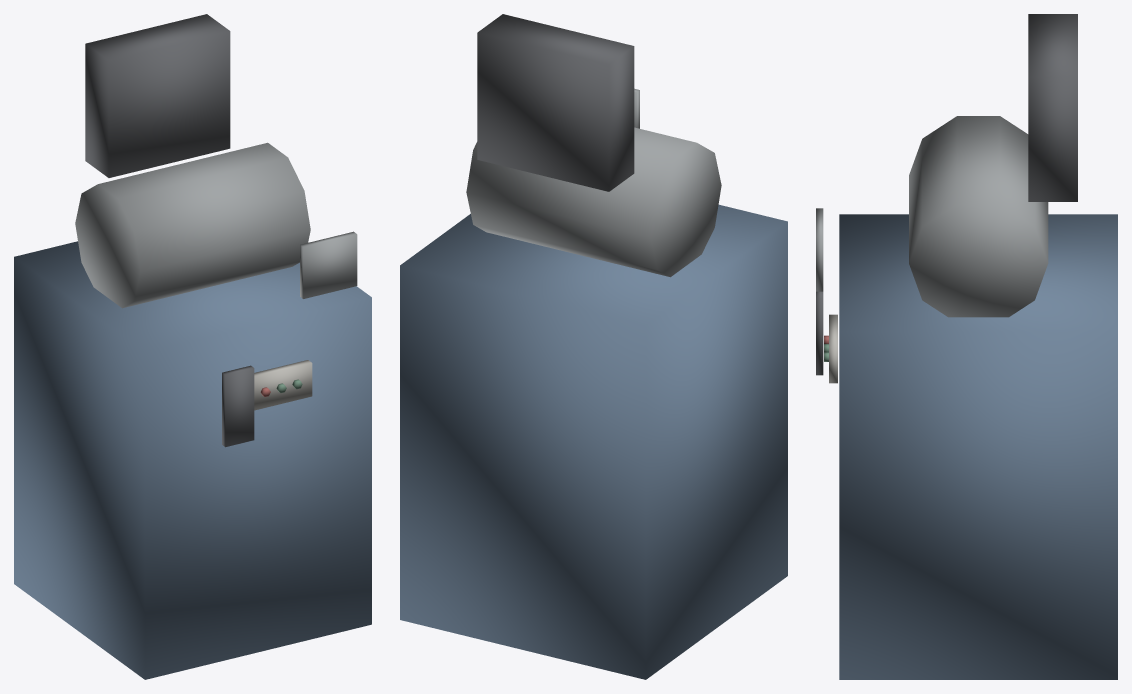
Rendered from tire_changer__weathered.glb.
3 views of the same model, side by side, from view 1: azimuth 30°, elevation 25°; view 2: azimuth 150°, elevation 25°; view 3: azimuth 270°, elevation 25° (orthographic). The views are drawn at different scales.
Parts seen in each view (by area): view 1: world; view 2: world; view 3: world.
Part boxes in pixels (x1,y1,x2,y2): world: (14,14,371,679); world: (400,14,787,679); world: (816,14,1117,679).
Bounding box in the file's own units: 0.56 × 1.28 × 0.6067.
